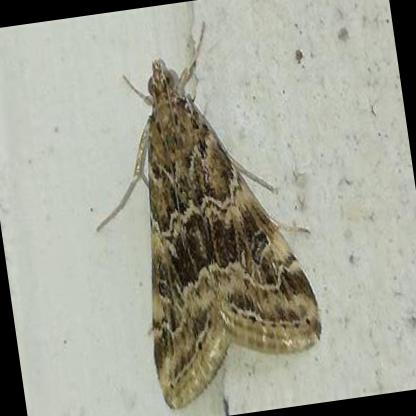Hellula undalis: (91, 14, 326, 409)
